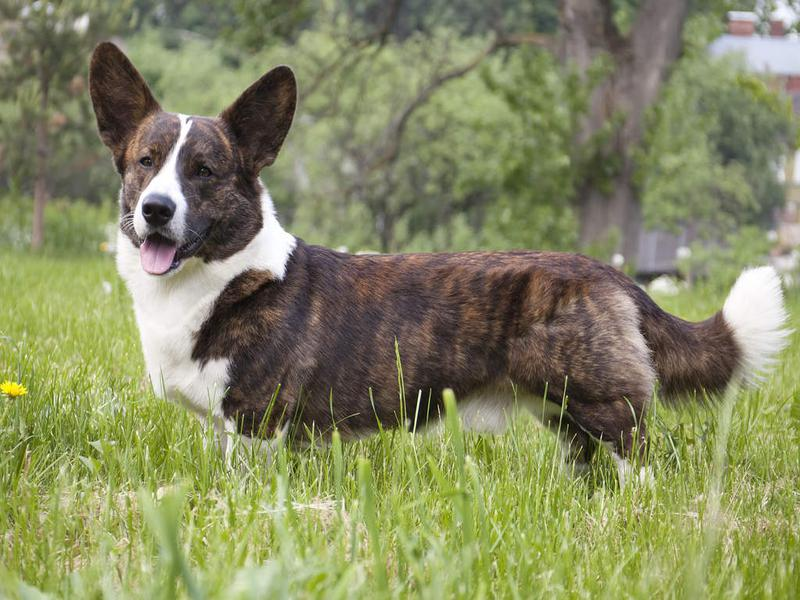corgi: (80, 36, 302, 285)
